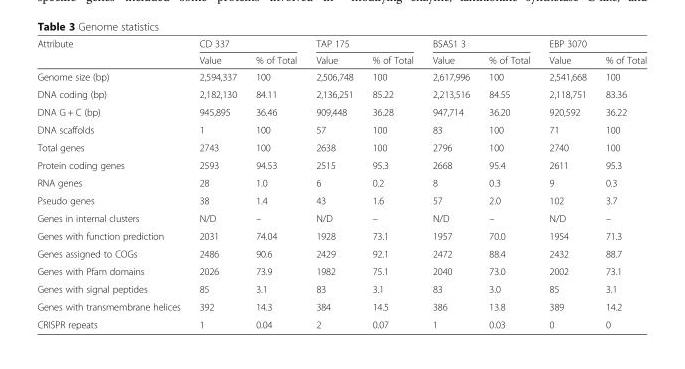table: (36, 37, 646, 329)
table column: (36, 37, 189, 329), (245, 37, 305, 329), (362, 37, 422, 329), (478, 37, 538, 329), (305, 37, 362, 329), (538, 37, 595, 329), (189, 37, 245, 329), (422, 37, 478, 329), (595, 37, 646, 329)
table column header: (36, 37, 646, 67)
table row: (36, 67, 646, 85), (36, 102, 646, 120), (36, 120, 646, 138), (36, 155, 646, 173), (36, 173, 646, 191), (36, 191, 646, 209), (36, 226, 646, 244), (36, 244, 646, 262), (36, 279, 646, 297), (36, 297, 646, 315), (36, 85, 646, 102), (36, 138, 646, 155), (36, 209, 646, 226), (36, 262, 646, 279), (36, 51, 646, 67), (36, 37, 646, 51), (36, 315, 646, 329)
table spanning cell: (36, 37, 189, 67), (305, 37, 422, 51), (189, 37, 305, 51), (422, 37, 538, 51), (538, 37, 646, 51)
